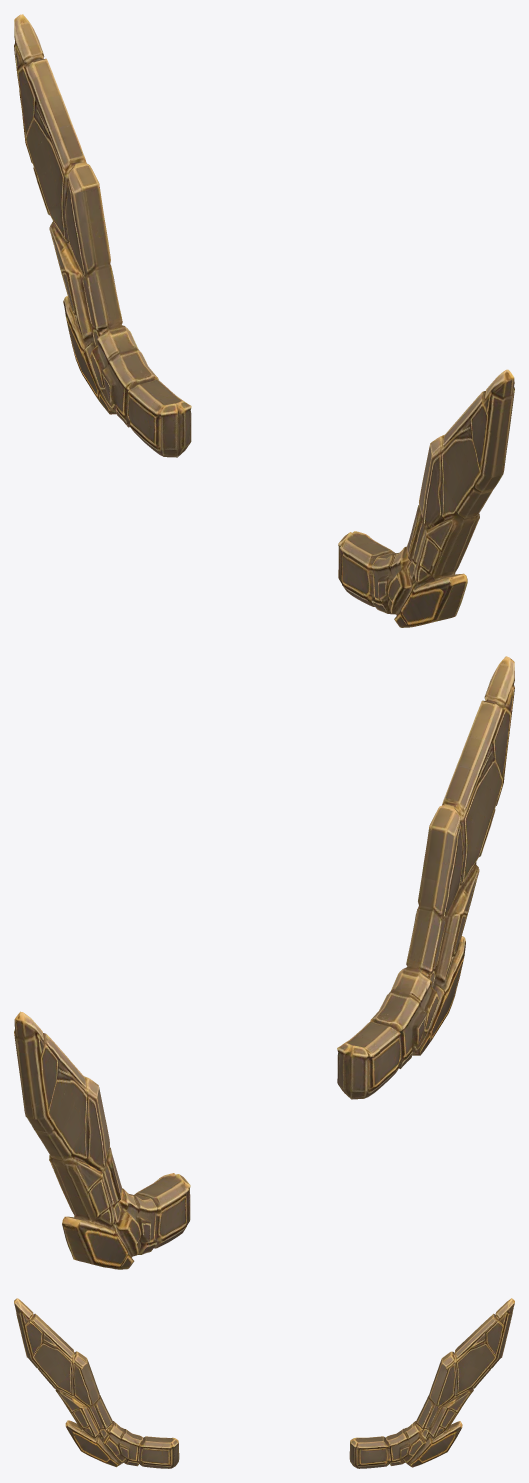
File: rank-2-rich-512.glb
The picture shows the model from 3 angles, top to bottom: view 1: azimuth 30°, elevation 25°; view 2: azimuth 150°, elevation 25°; view 3: azimuth 270°, elevation 25°; orthographic projection. The views are drawn at different scales.
Visible parts, largest first — view 1: chassis; view 2: chassis; view 3: chassis.
Boxes of the visible parts, x1,y1,x2,y2 form: chassis: (14, 14, 514, 627); chassis: (14, 656, 514, 1269); chassis: (14, 1298, 514, 1468).
Size of the model in its own units: 0.0408 by 0.3033 by 0.82.
Materials: 1 (1 with a texture image).
